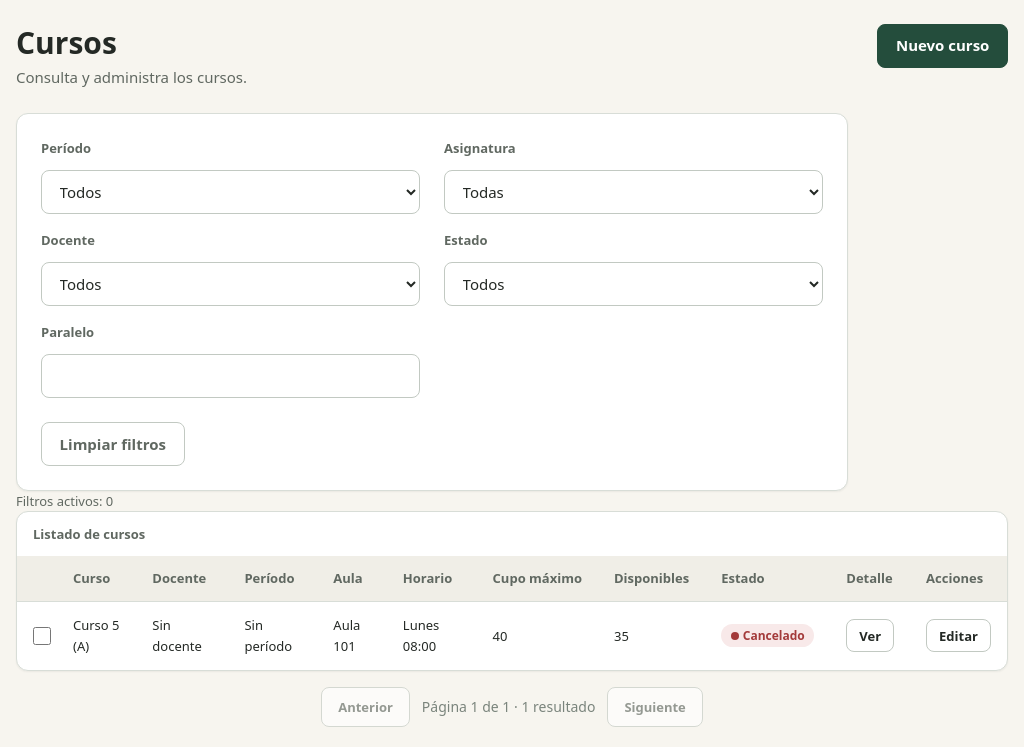
Test: ListadoCursosComponent › no muestra Cancelar en la barra para un curso ya cancelado
Click the cell "Curso 5 (A)".
click(97, 635)  # box [57, 601, 136, 670]
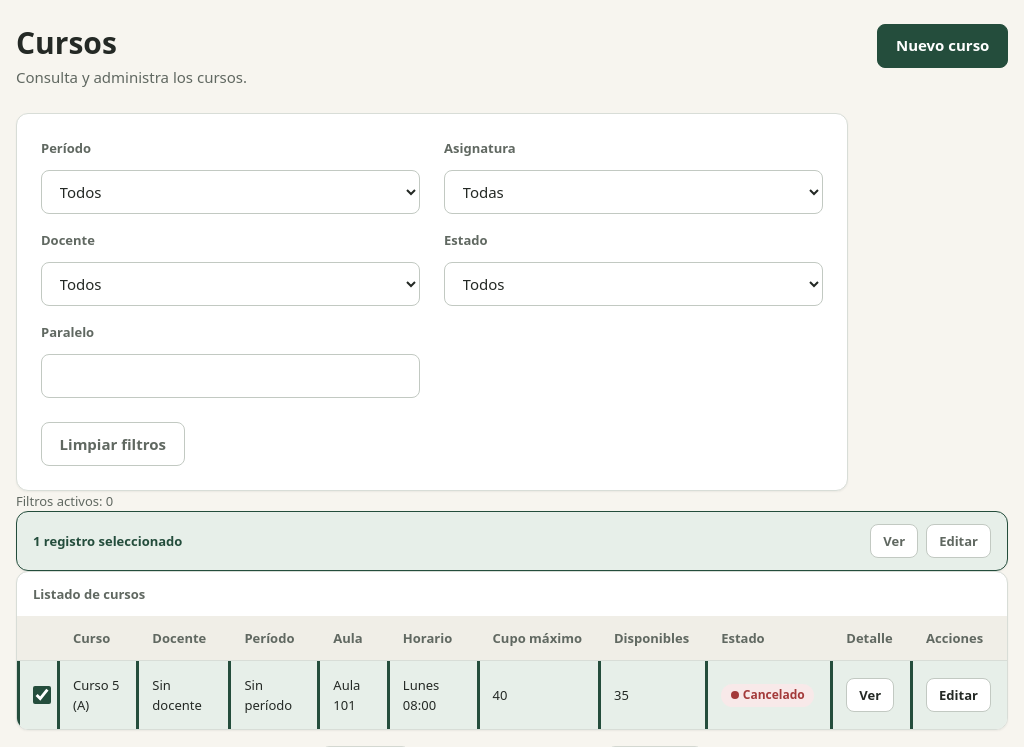
Check: the button "Ver" is shown, box [870, 524, 918, 558]
Check: the button "Editar" is shown, box [926, 524, 991, 558]
